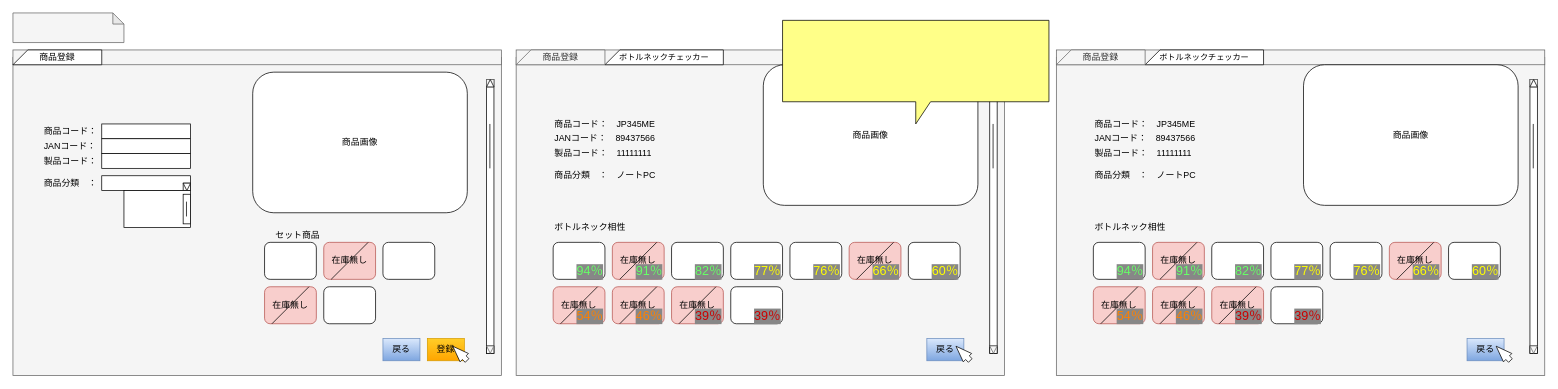
Some shapes in this 1558 by 389 pixel diagram are drawn without their labels. The centre of each missing label's shape, as x and y in pixels:
QR読取や商品一覧から特定の商品を選択 するだけで「ボトルネックチェック」を選択: point 915,72
ノートPC グラボ マザボ: point 157,209
商品管理: point 68,27
